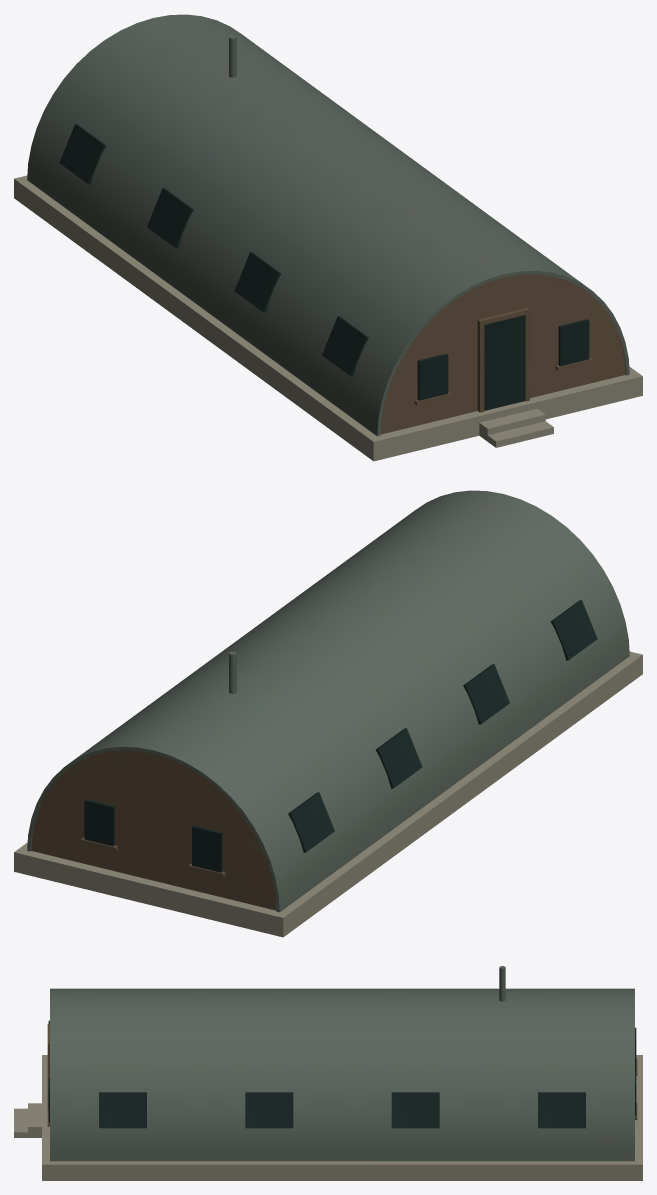
Rendered from quonset-hut-20x48.glb.
3 renders of one model, top to bottom at view 1: azimuth 30°, elevation 25°; view 2: azimuth 150°, elevation 25°; view 3: azimuth 270°, elevation 25°, orthographic. The views are drawn at different scales.
Parts seen in each view (by area): view 1: quonset-hut-20x48_concrete; view 2: quonset-hut-20x48_concrete; view 3: quonset-hut-20x48_concrete.
Boxes of the visible parts, <box> form: quonset-hut-20x48_concrete: <box>14,14,642,461</box>; quonset-hut-20x48_concrete: <box>14,490,642,937</box>; quonset-hut-20x48_concrete: <box>14,966,642,1180</box>.
Size of the model in its own units: 6.5 by 4.38 by 15.73.
1 material, 1 textured.
